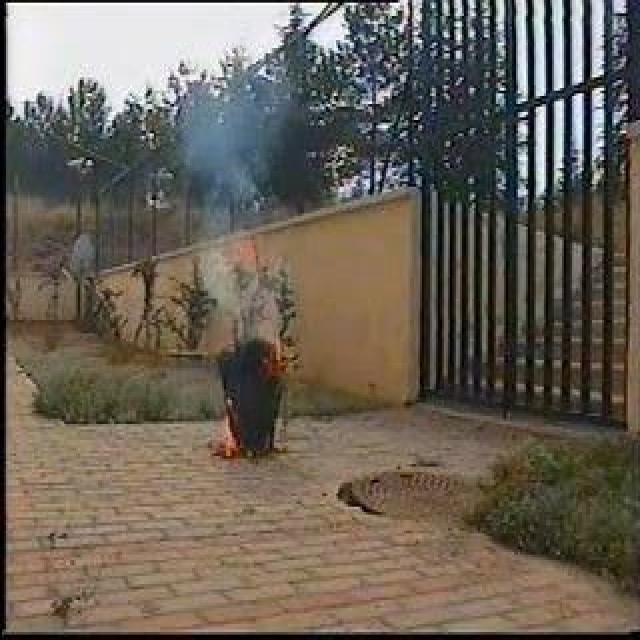fire: (264, 338, 292, 374)
smoke: (178, 78, 276, 190)
